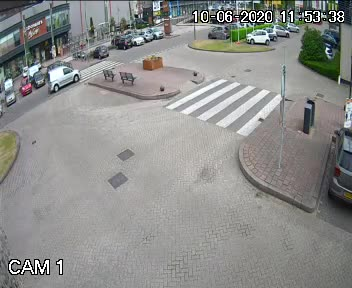car: (31, 60, 89, 92)
